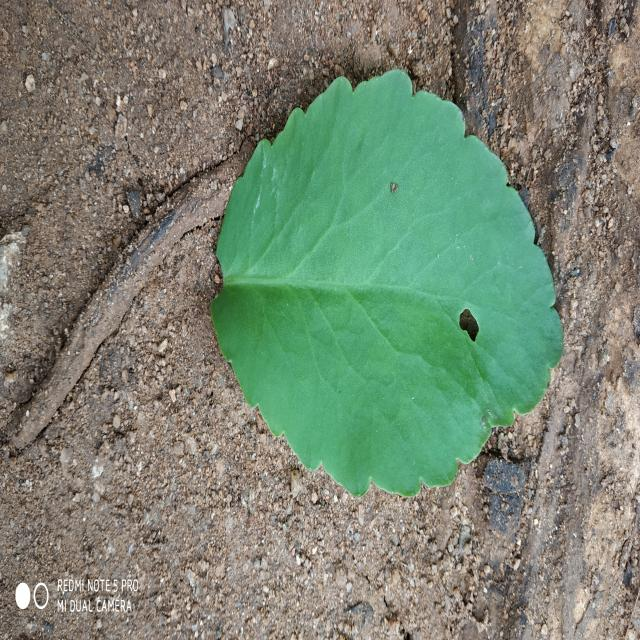defectedspinach: (405, 220, 548, 422)
spinach: (211, 71, 562, 496)
